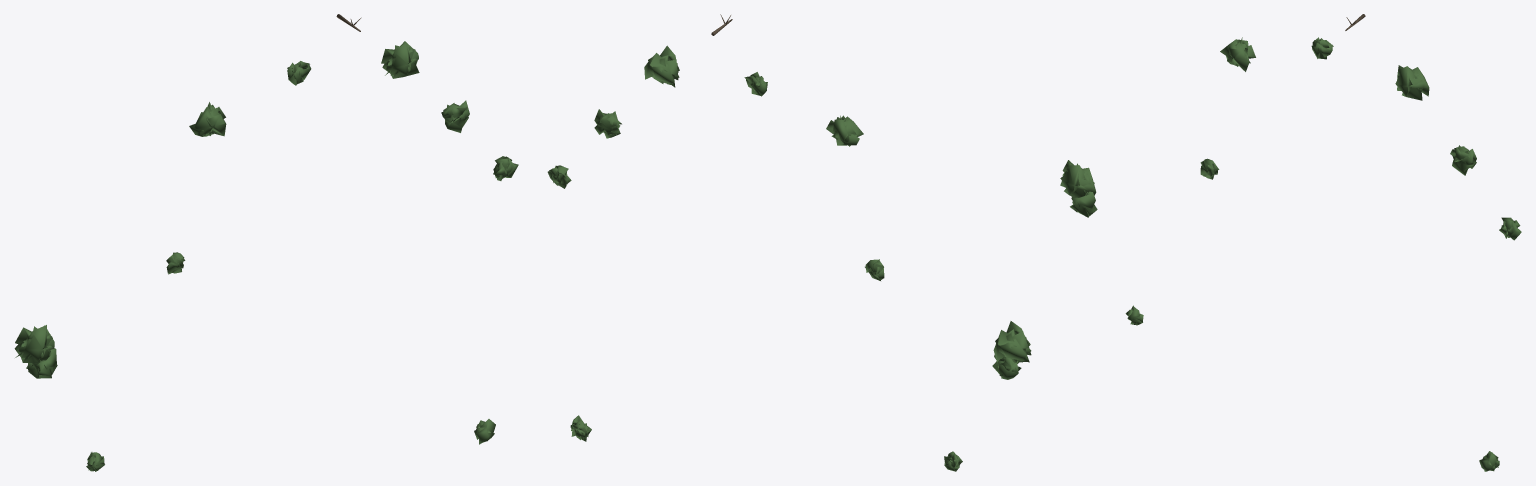
Rendered from batch_VEG_p002_p000.glb.
3 views of the same model, side by side, from view 1: azimuth 30°, elevation 25°; view 2: azimuth 150°, elevation 25°; view 3: azimuth 330°, elevation 25° (orthographic). The views are drawn at different scales.
Parts seen in each view (by area): view 1: SAR_Bush_0571.001; view 2: SAR_Bush_0571.001; view 3: SAR_Bush_0571.001.
Boxes of the visible parts, x1,y1,x2,y2 form: SAR_Bush_0571.001: (14, 14, 518, 471); SAR_Bush_0571.001: (547, 14, 1031, 471); SAR_Bush_0571.001: (1060, 14, 1521, 471).
Bounding box in the file's own units: 49.02 × 43.67 × 3.69.
